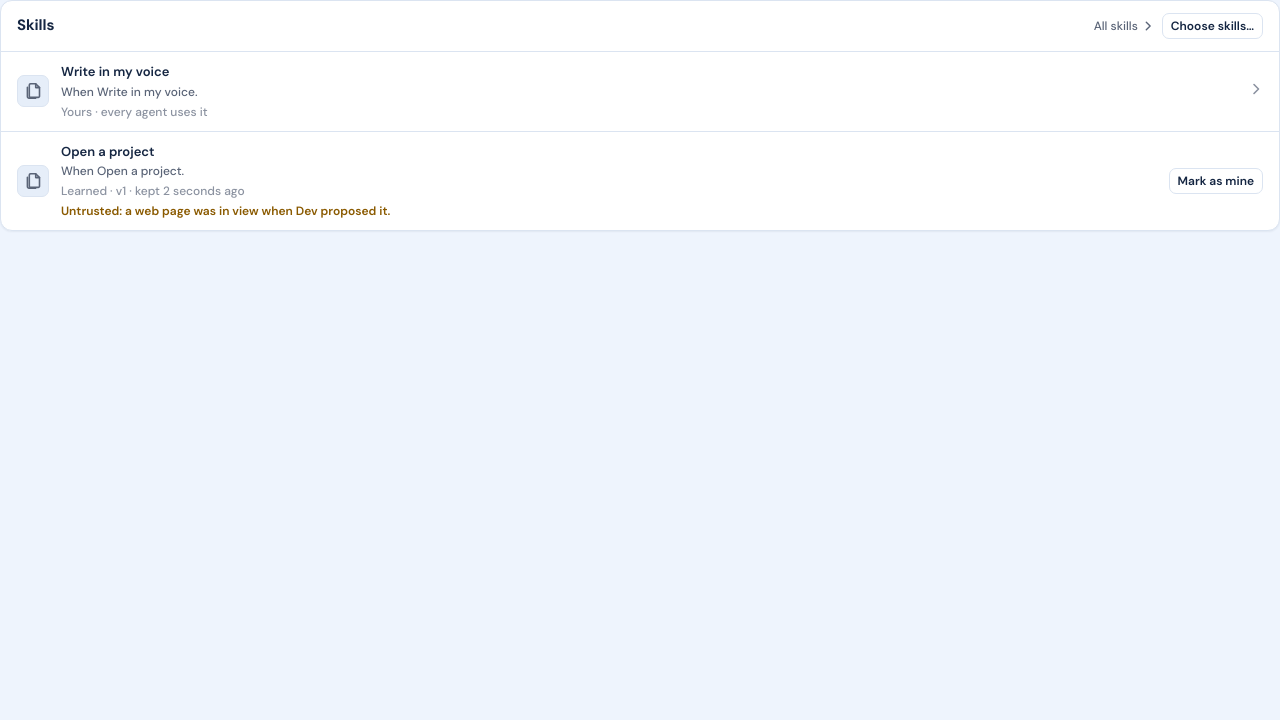
Test: the agent page’s Skills › leaves out an every-agent skill this agent shadows with its own, and says so in the picker
The width and height of the screenshot is (1280, 720).
Expected: the text "Open a project" is shown, [61,142,154,160]
Expected: the text "Cite sources" is not shown
Click the button "Choose skills…". click: (1212, 26)
box: [1162,13,1263,39]
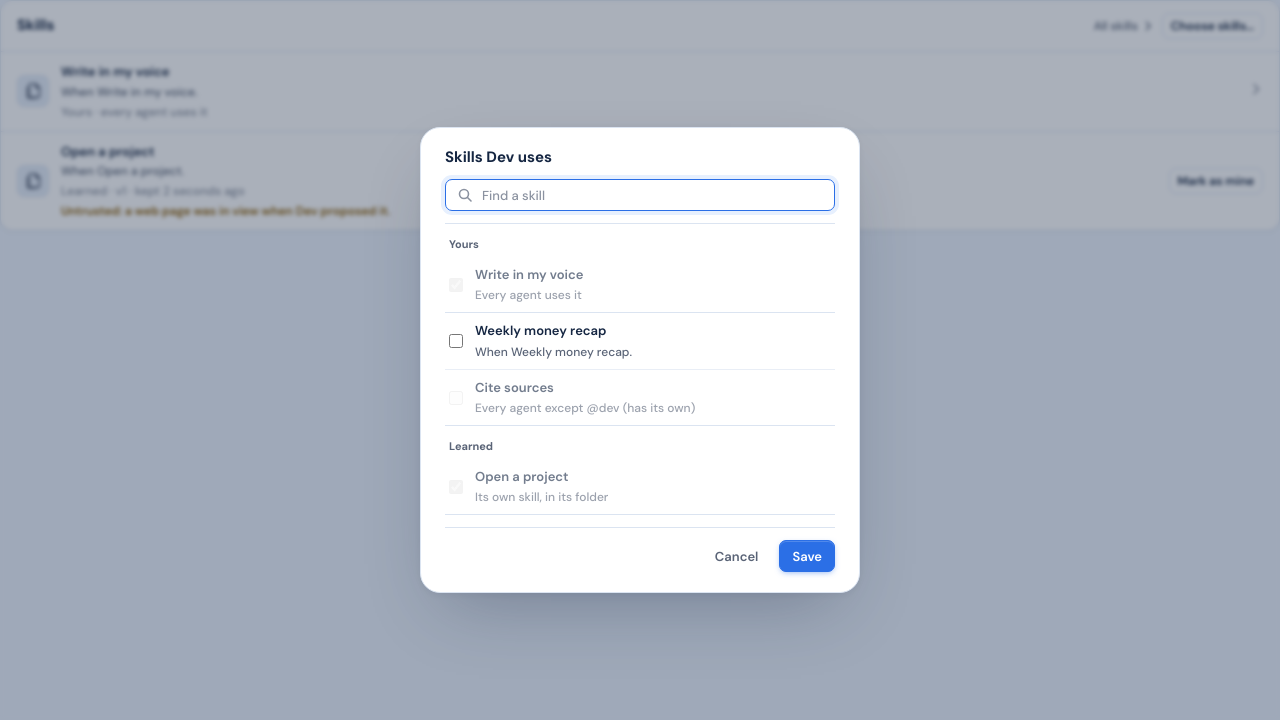
Expected: the text "Every agent except @dev (has its own)" is shown, [475,399,695,417]
